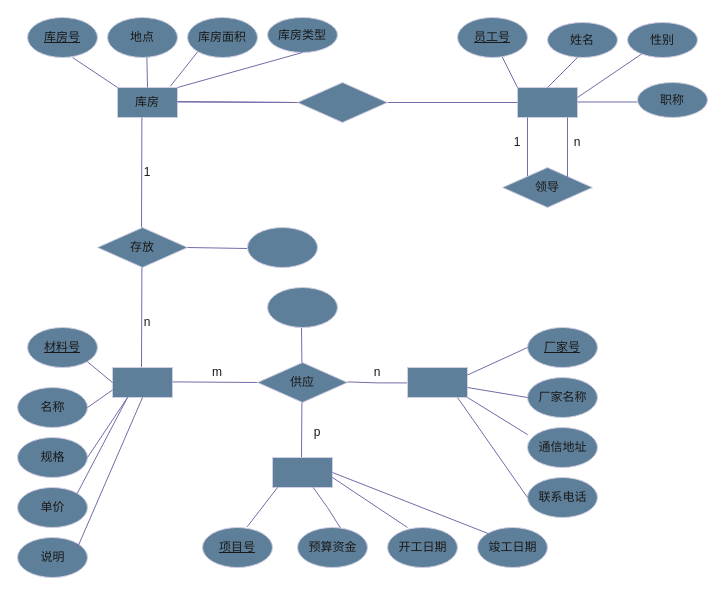
Some shapes in this 725 by 595 pixel diagram are drawn without their labels. The centre of each missing label's shape, as x and y in pixels:
"供应量" belongs at [302,307].
"原材料" belongs at [142,382].
"员工" belongs at [547,102].
"工作" belongs at [342,102].
"工程项目" belongs at [302,472].
"库存量" belongs at [282,247].
"生产厂家" belongs at [437,382].
